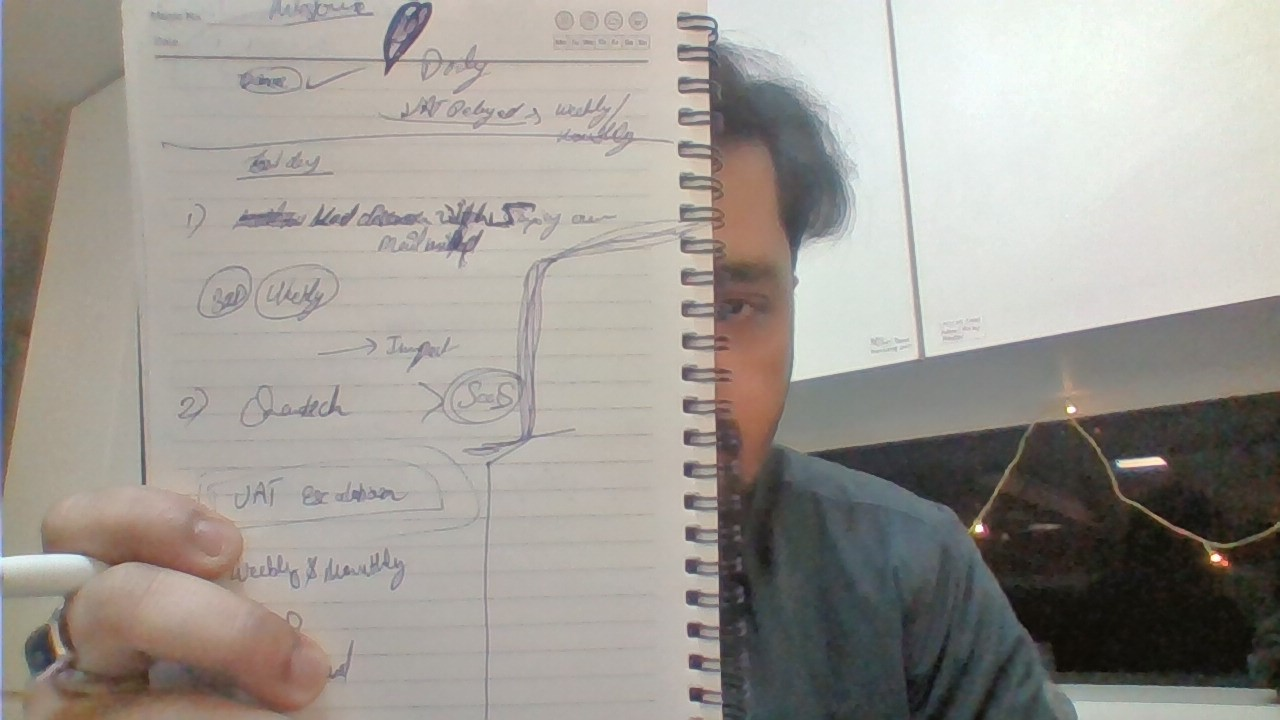partial: (111, 1, 753, 714)
